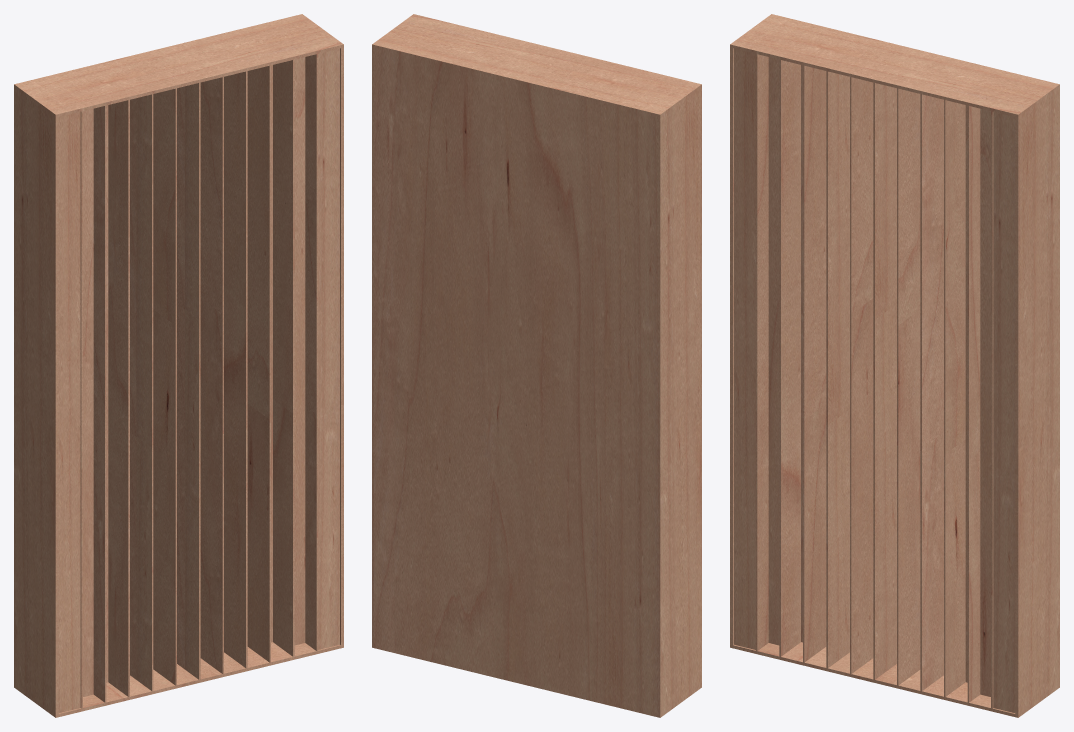
File: RealQuadStudioMAX.glb
3 renders of one model, left to right at view 1: azimuth 30°, elevation 25°; view 2: azimuth 150°, elevation 25°; view 3: azimuth 330°, elevation 25°, orthographic.
Visible parts, largest first — view 1: RQSMax v1; view 2: RQSMax v1; view 3: RQSMax v1.
Boxes of the visible parts, x1=… form: RQSMax v1: x1=14, y1=14, x2=343, y2=717; RQSMax v1: x1=372, y1=14, x2=701, y2=717; RQSMax v1: x1=730, y1=14, x2=1059, y2=717.
Size of the model in its own units: 48 by 96 by 12.
Materials: 1 (1 with a texture image).
